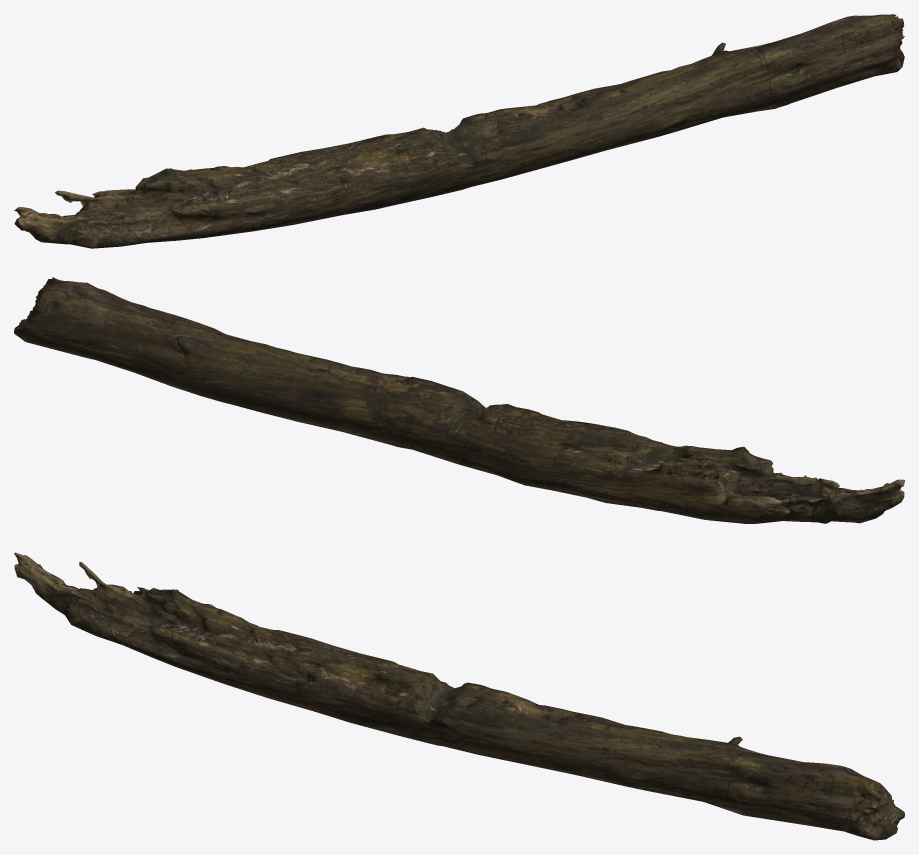
The model's file is dead_tree_trunk.glb.
3 renders of one model, top to bottom at view 1: azimuth 30°, elevation 25°; view 2: azimuth 150°, elevation 25°; view 3: azimuth 330°, elevation 25°, orthographic.
Parts seen in each view (by area): view 1: dead_tree_trunk; view 2: dead_tree_trunk; view 3: dead_tree_trunk.
Part boxes in pixels (x1,y1,x2,y2): dead_tree_trunk: [14, 14, 904, 248]; dead_tree_trunk: [14, 277, 904, 523]; dead_tree_trunk: [14, 552, 904, 840].
Bounding box in the file's own units: 3.05 × 0.2899 × 0.2774.
Materials: 1 (1 with a texture image).
